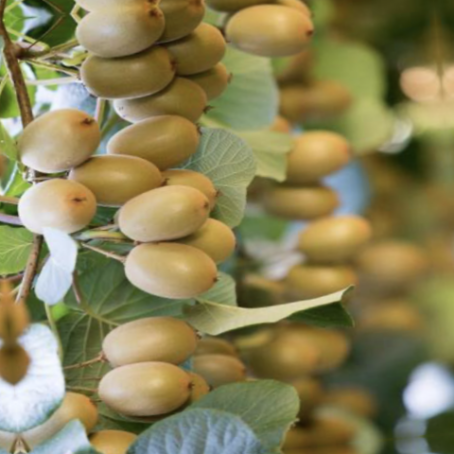kiwi: (97, 229, 231, 308), (67, 28, 197, 109), (89, 304, 204, 382), (9, 99, 113, 177), (105, 181, 211, 257), (89, 357, 204, 422), (214, 0, 322, 65)
